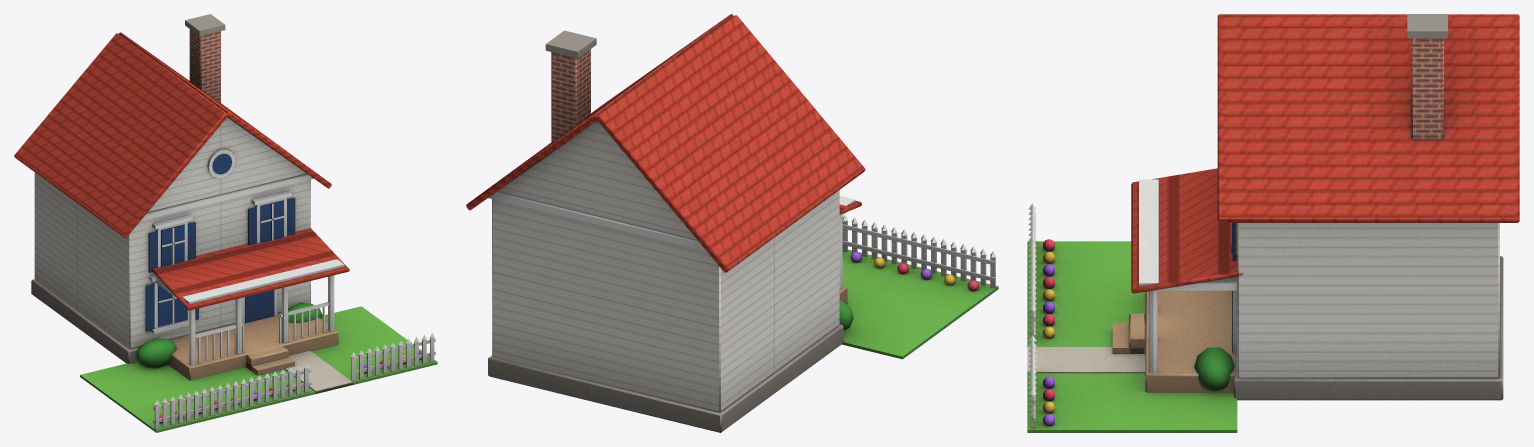
Rendered from vict_blanca.glb.
The picture shows the model from 3 angles, left to right: view 1: azimuth 30°, elevation 25°; view 2: azimuth 150°, elevation 25°; view 3: azimuth 270°, elevation 25°; orthographic projection. The views are drawn at different scales.
Parts seen in each view (by area): view 1: vict_blanca; view 2: vict_blanca; view 3: vict_blanca.
Part boxes in pixels (x1,y1,x2,y2): vict_blanca: (14, 14, 437, 432); vict_blanca: (466, 14, 998, 432); vict_blanca: (1027, 14, 1519, 432).
Size of the model in its own units: 6.8 by 5.94 by 7.5.
1 material, 1 textured.
